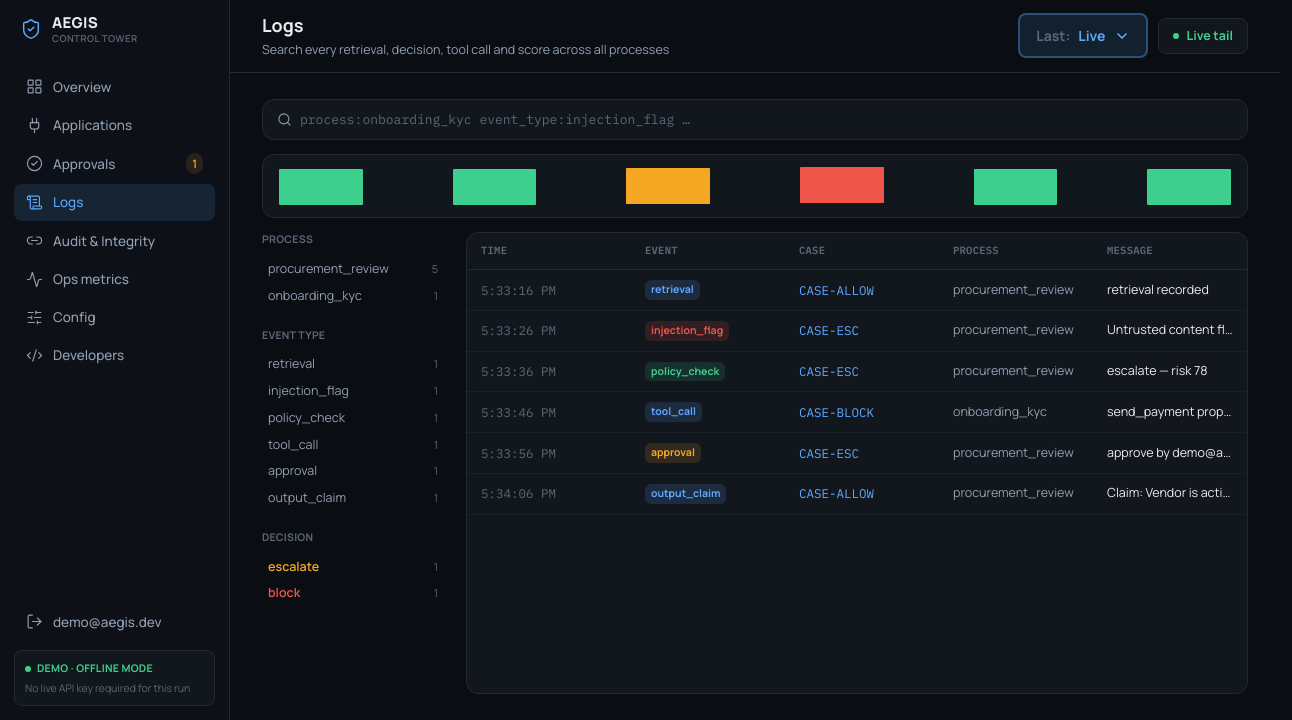
LogsPage › shows every quick-range option in the dropdown
Expected: the text "injection_flag" below "Event type" is shown, [268,382,349,399]
What coordinates should you click on to do the following:
click the button with test id "quick-range-button"
I would click on:
 (1083, 36)
Its box is [1018,13,1148,58].
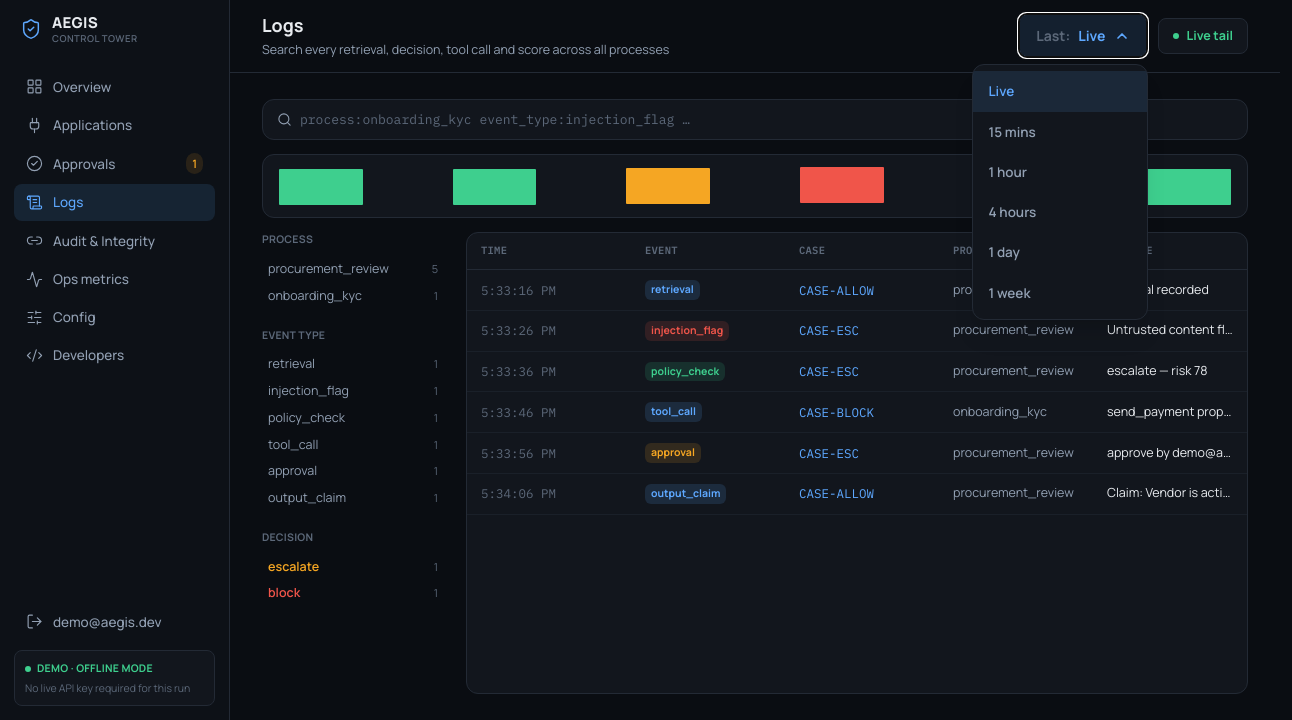
Now the button "Live" is shown, box [972,71,1146,112]
Now the button "15 mins" is shown, box [972,112,1146,152]
Now the button "1 hour" is shown, box [972,152,1146,192]
